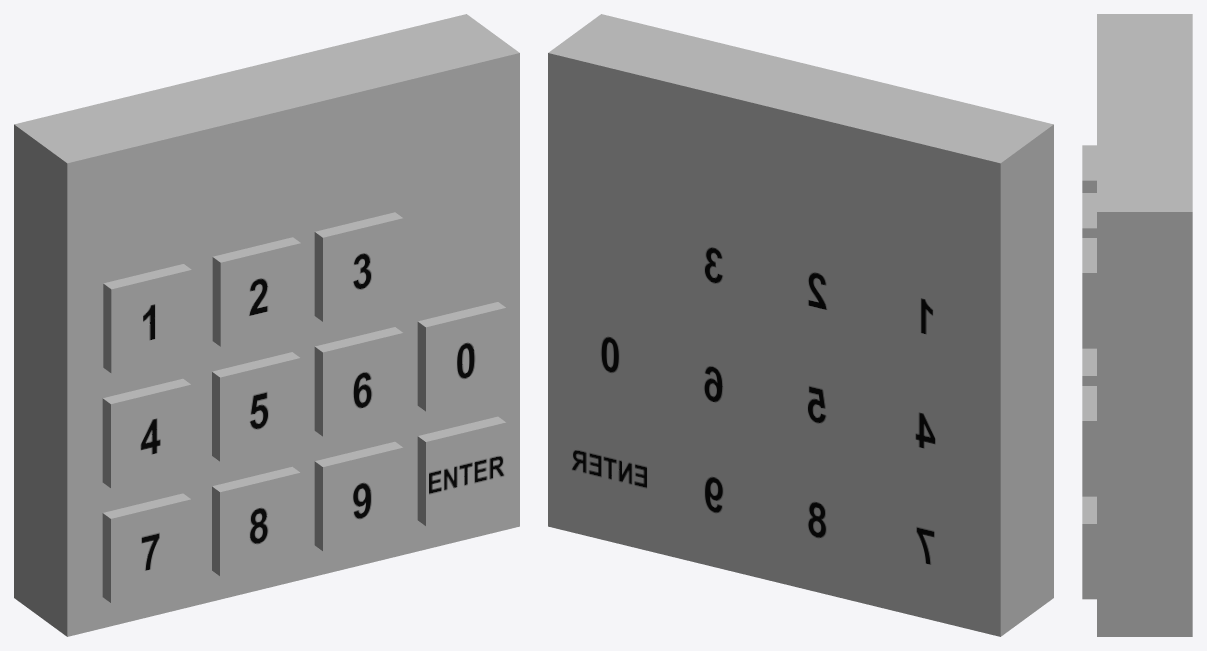
Rendered from Keypad.fbx.
3 views of the same model, side by side, from view 1: azimuth 30°, elevation 25°; view 2: azimuth 150°, elevation 25°; view 3: azimuth 270°, elevation 25° (orthographic). The views are drawn at different scales.
Visible parts, largest first — view 1: polySurface21; view 2: polySurface21; view 3: polySurface21.
Boxes of the visible parts, x1,y1,x2,y2 form: polySurface21: (14,14,519,636); polySurface21: (548,14,1053,636); polySurface21: (1082,14,1192,636).
Size of the model in its own units: 1 by 1 by 0.2349.
